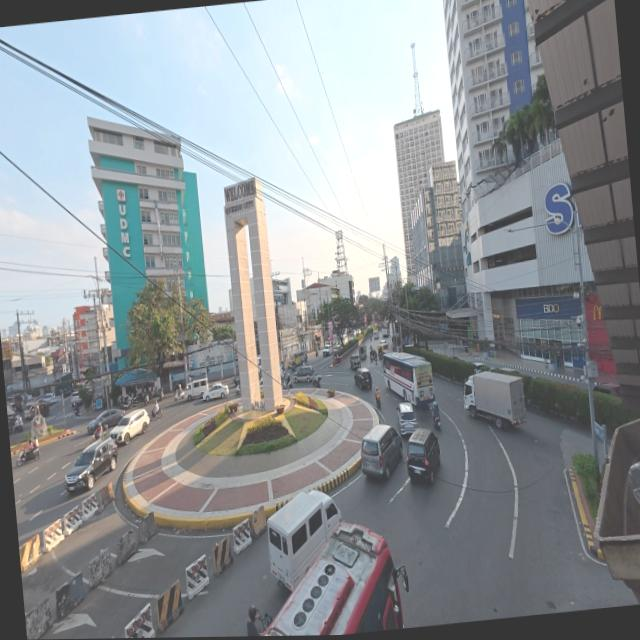bus: (264, 522, 408, 635), (384, 352, 434, 406), (382, 326, 389, 337)
car: (65, 438, 118, 493), (361, 424, 403, 477), (406, 428, 440, 482), (110, 409, 150, 445), (87, 409, 124, 433), (398, 402, 419, 435), (203, 384, 229, 401), (295, 365, 315, 383), (354, 368, 372, 388), (24, 402, 38, 419), (293, 351, 308, 366), (473, 362, 490, 373), (43, 393, 61, 403), (70, 391, 82, 406), (322, 344, 332, 356), (359, 346, 367, 359), (233, 375, 240, 387), (353, 330, 360, 338), (373, 331, 379, 339)
motorcycle: (16, 447, 39, 466), (258, 613, 273, 634), (258, 613, 273, 631), (432, 404, 441, 429), (91, 431, 105, 443), (152, 388, 164, 401), (121, 396, 132, 409), (151, 408, 162, 420), (312, 375, 321, 388), (375, 389, 381, 408), (174, 390, 185, 400), (12, 424, 23, 434), (284, 377, 292, 390), (72, 404, 80, 416), (233, 383, 240, 395)
trucks: (464, 373, 526, 429), (350, 354, 361, 370)
vans: (268, 490, 341, 590), (186, 378, 208, 399)
